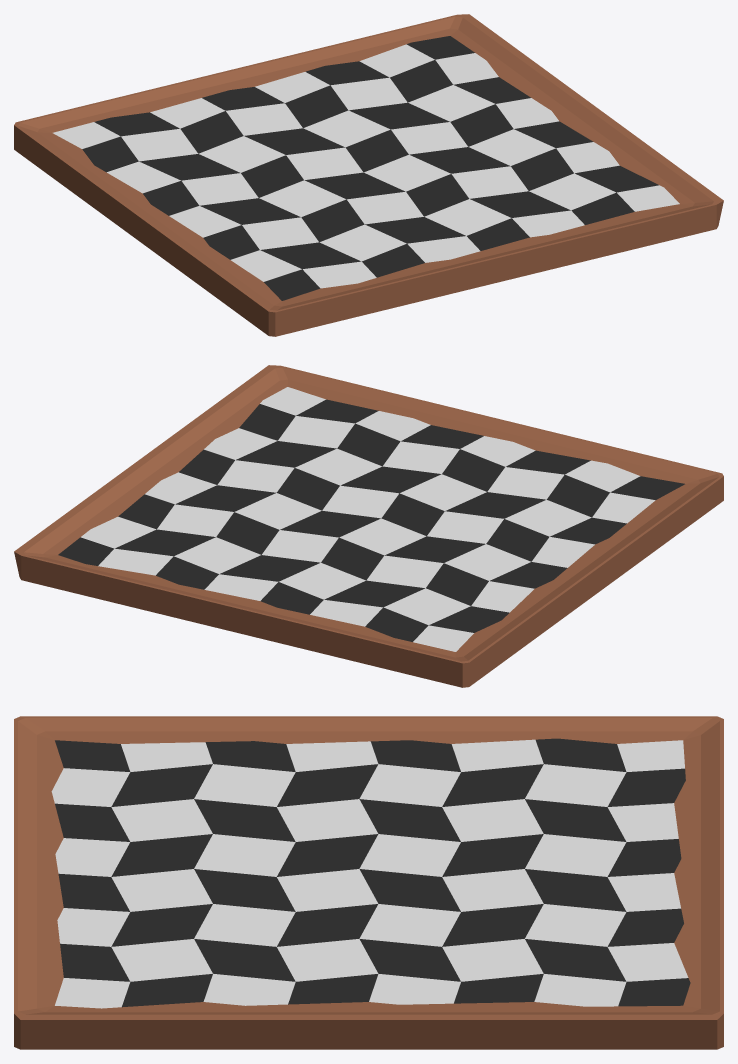
3 views of the same model, one above another, from view 1: azimuth 30°, elevation 25°; view 2: azimuth 150°, elevation 25°; view 3: azimuth 270°, elevation 25° (orthographic). The views are drawn at different scales.
Parts seen in each view (by area): view 1: Cube; view 2: Cube; view 3: Cube.
Boxes of the visible parts, bbox=[...] form: Cube: bbox=[14, 14, 723, 336]; Cube: bbox=[14, 365, 723, 687]; Cube: bbox=[14, 716, 723, 1049].
Size of the model in its own units: 1945 by 103 by 1921.
